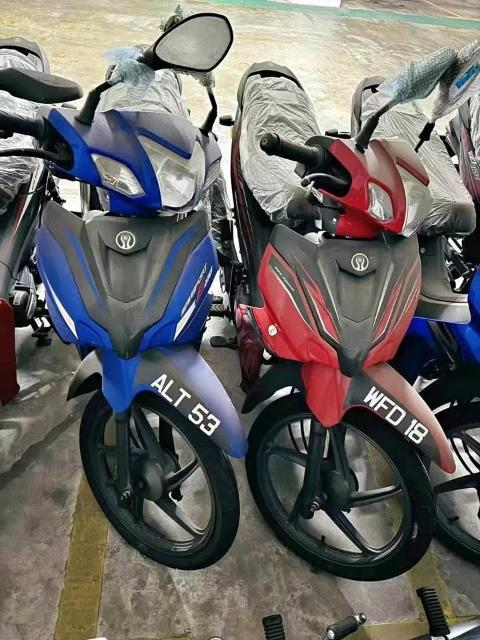License_Plate: (145, 369, 222, 445), (358, 384, 430, 455)
motorcycle: (2, 6, 250, 572), (224, 54, 478, 582)
